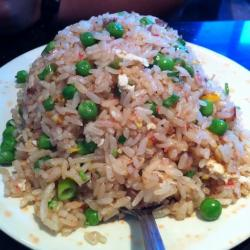rice: (25, 24, 227, 214)
